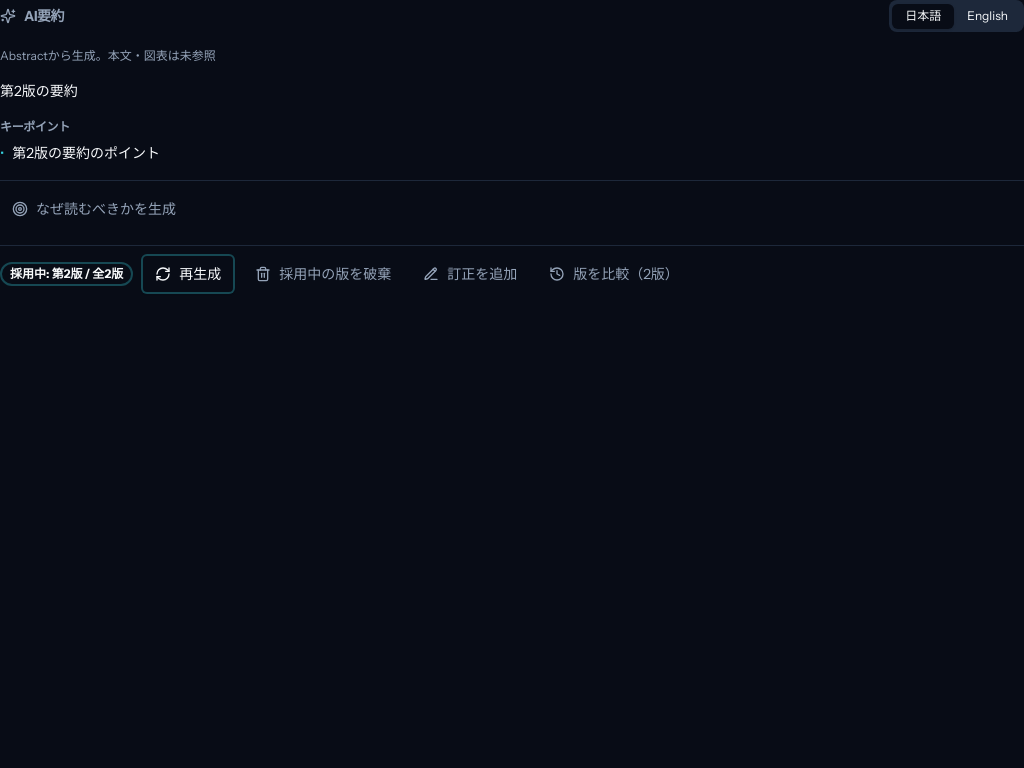
Scenario: PaperSummary › 版の再生成・破棄・比較 › 正常系: 破棄は確認ダイアログで確定し、キャンセルすると破棄しない
Click the button "採用中の版を破棄" at (323,274), box [243,254,403,294]
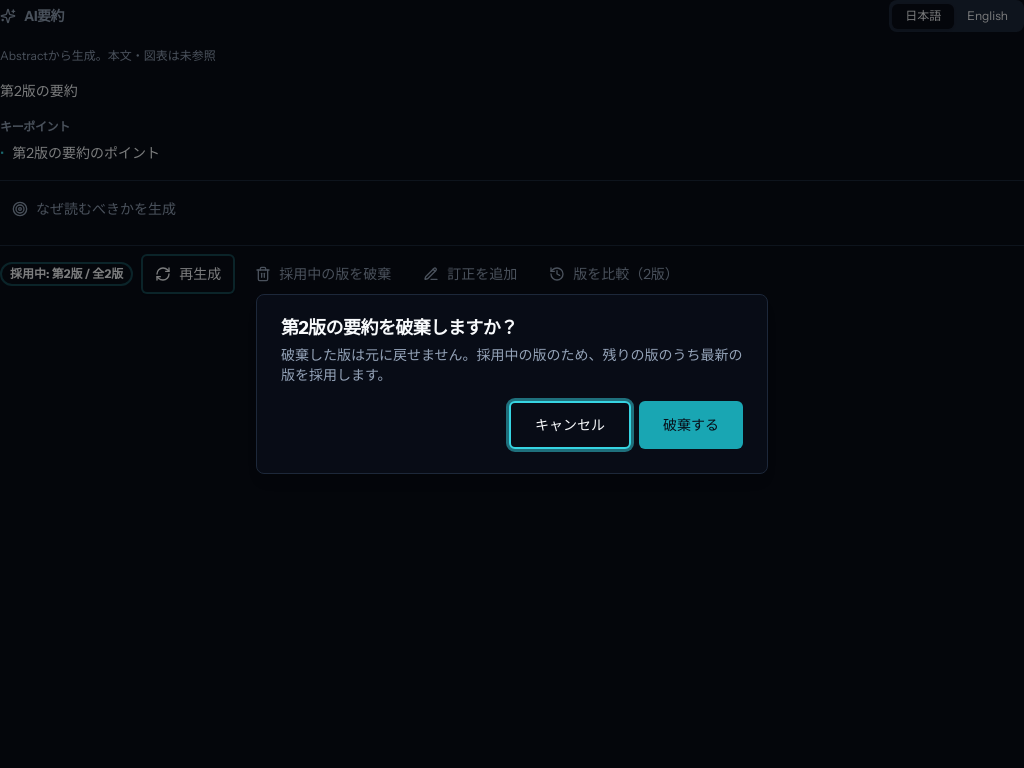
Result: the dialog "第2版の要約を破棄しますか？" shows "残りの版のうち最新の版を採用します" at [281,346,743,384]
Click the button "キャンセル" at (570,425), box [509,401,631,449]
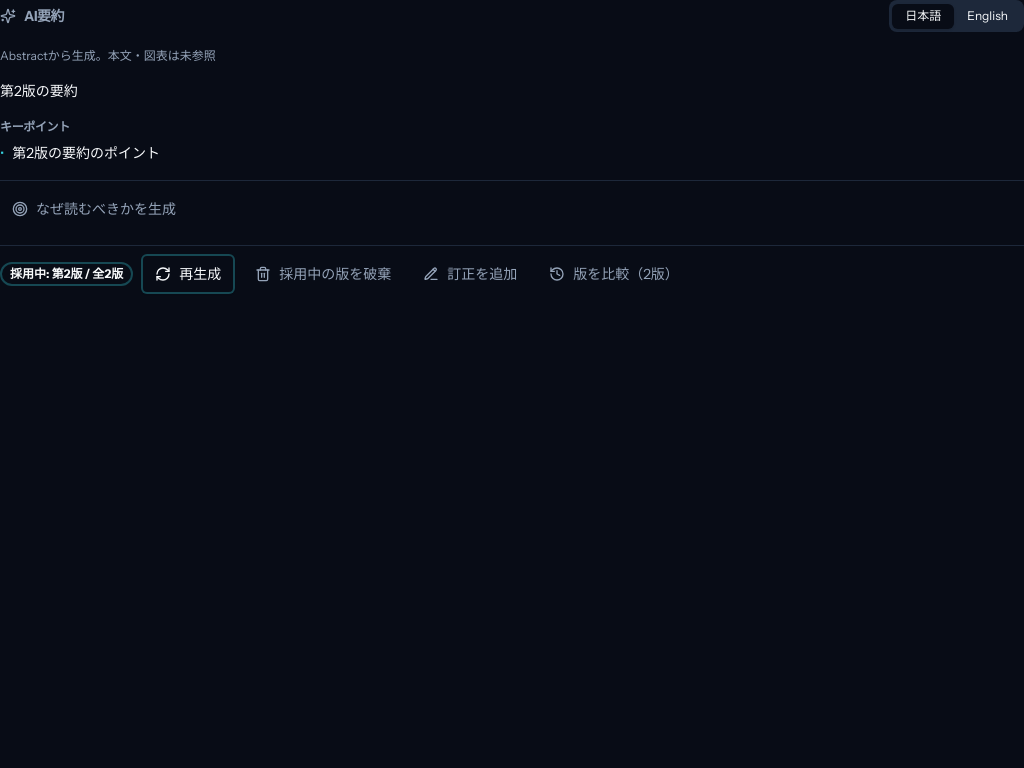
Result: the dialog is gone
